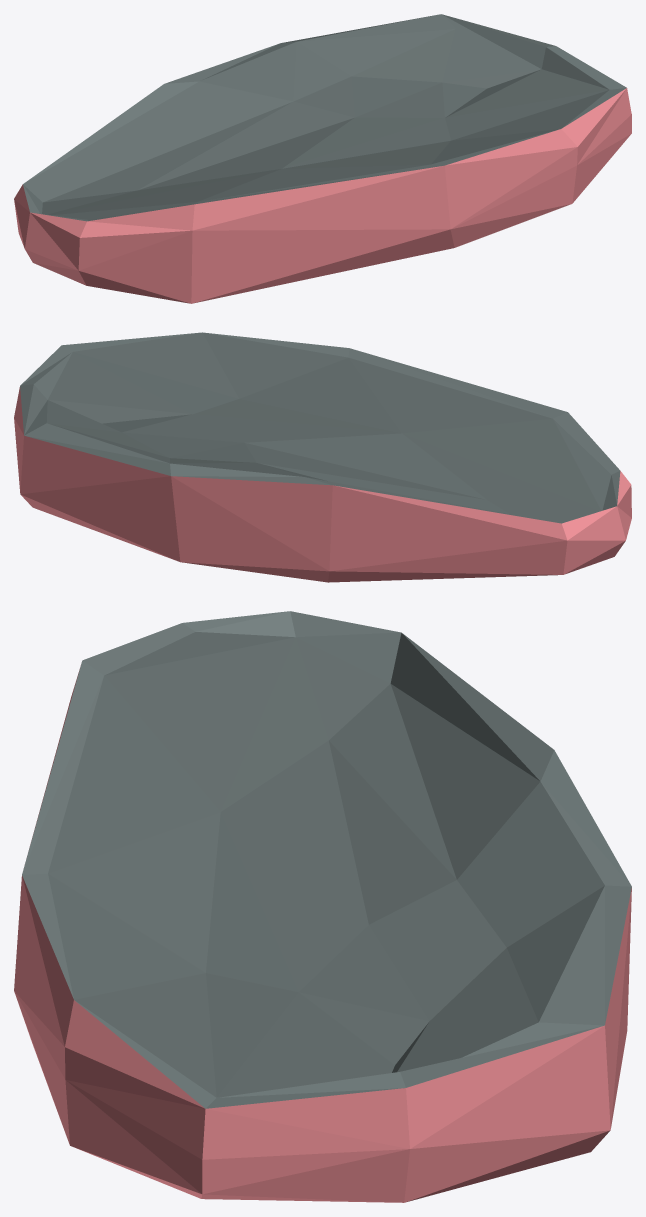
The model's file is SFI_Meat_Raw_003.fbx.
3 views of the same model, one above another, from view 1: azimuth 30°, elevation 25°; view 2: azimuth 150°, elevation 25°; view 3: azimuth 270°, elevation 25° (orthographic). The views are drawn at different scales.
Visible parts, largest first — view 1: SFI_Meat_Raw_003; view 2: SFI_Meat_Raw_003; view 3: SFI_Meat_Raw_003.
Part boxes in pixels (x1=…): SFI_Meat_Raw_003: x1=14, y1=14, x2=631, y2=303; SFI_Meat_Raw_003: x1=14, y1=332, x2=631, y2=582; SFI_Meat_Raw_003: x1=14, y1=611, x2=631, y2=1202.
Size of the model in its own units: 65 by 10.59 by 33.23.
